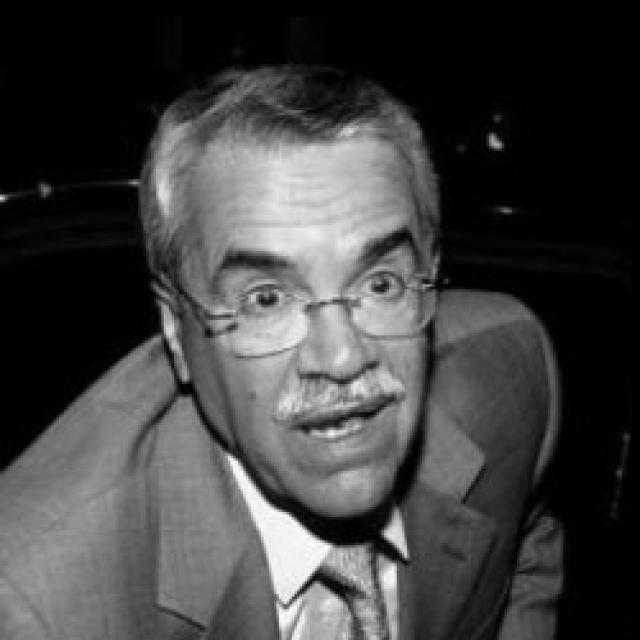real: (180, 128, 432, 517), (219, 244, 416, 324)
